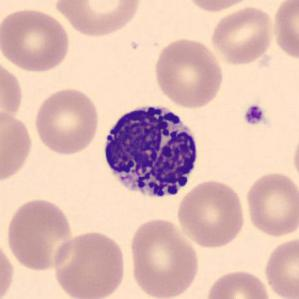Basophil: (96, 96, 204, 206)
Platelets: (242, 103, 266, 128)
RBC: (126, 216, 202, 299), (151, 36, 226, 110), (4, 196, 75, 273), (51, 229, 128, 299), (175, 177, 248, 250), (32, 85, 102, 157), (0, 5, 71, 74), (208, 4, 276, 66), (243, 170, 298, 238), (53, 0, 144, 38), (0, 107, 35, 185), (261, 234, 298, 299), (203, 267, 272, 299), (0, 56, 25, 128), (271, 0, 298, 62), (182, 0, 257, 14), (0, 238, 16, 299), (290, 127, 299, 189)
